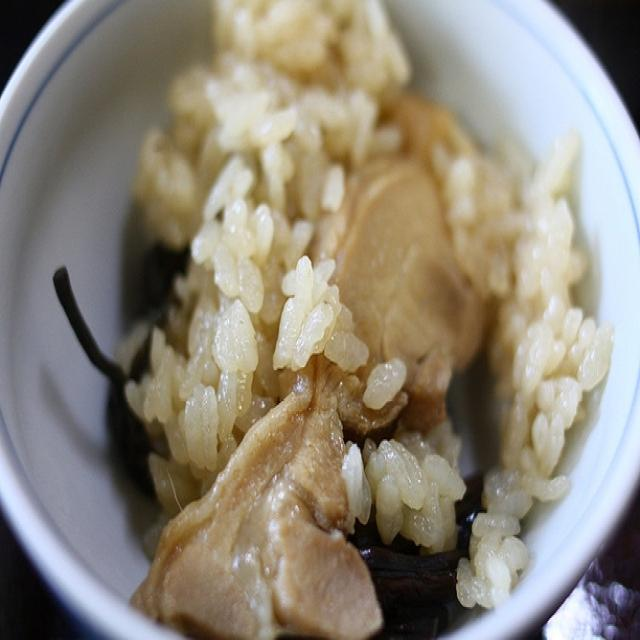鸡蛋料理: (0, 0, 600, 640)
